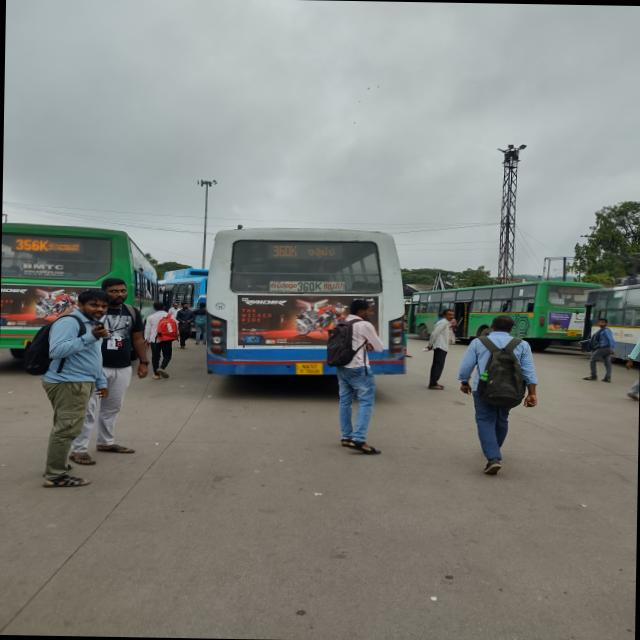bus: (206, 222, 416, 385), (0, 218, 160, 372), (406, 276, 608, 352), (160, 258, 208, 334)
display: (266, 242, 341, 260), (15, 236, 81, 252), (557, 288, 583, 294)
dnumber: (16, 238, 48, 251), (271, 244, 298, 258)
